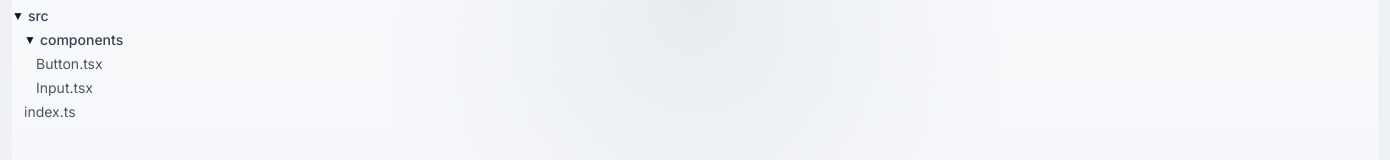
Test: FileTree › folder collapse/expand › collapses a folder when clicked
Click the text "components" at (82, 40), box [40,30,123,50]
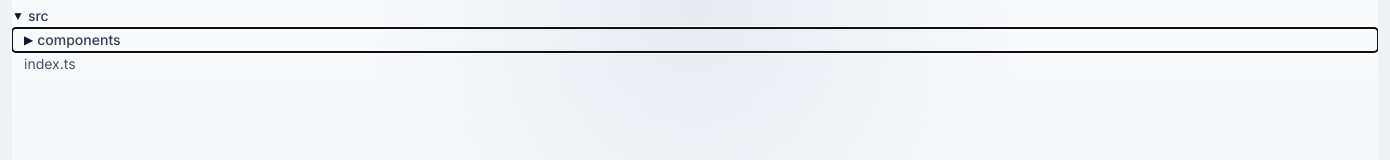
Now the button "Button.tsx" is gone
Now the button "Input.tsx" is gone
